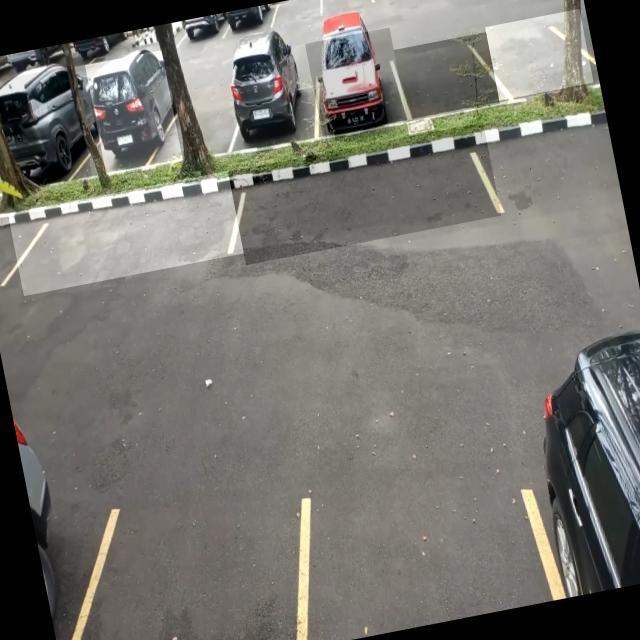empty: (228, 122, 501, 265), (8, 171, 244, 296), (485, 9, 594, 101), (394, 32, 500, 122)
occupied: (85, 51, 184, 176), (217, 41, 325, 152), (0, 65, 93, 192), (305, 28, 408, 138)
